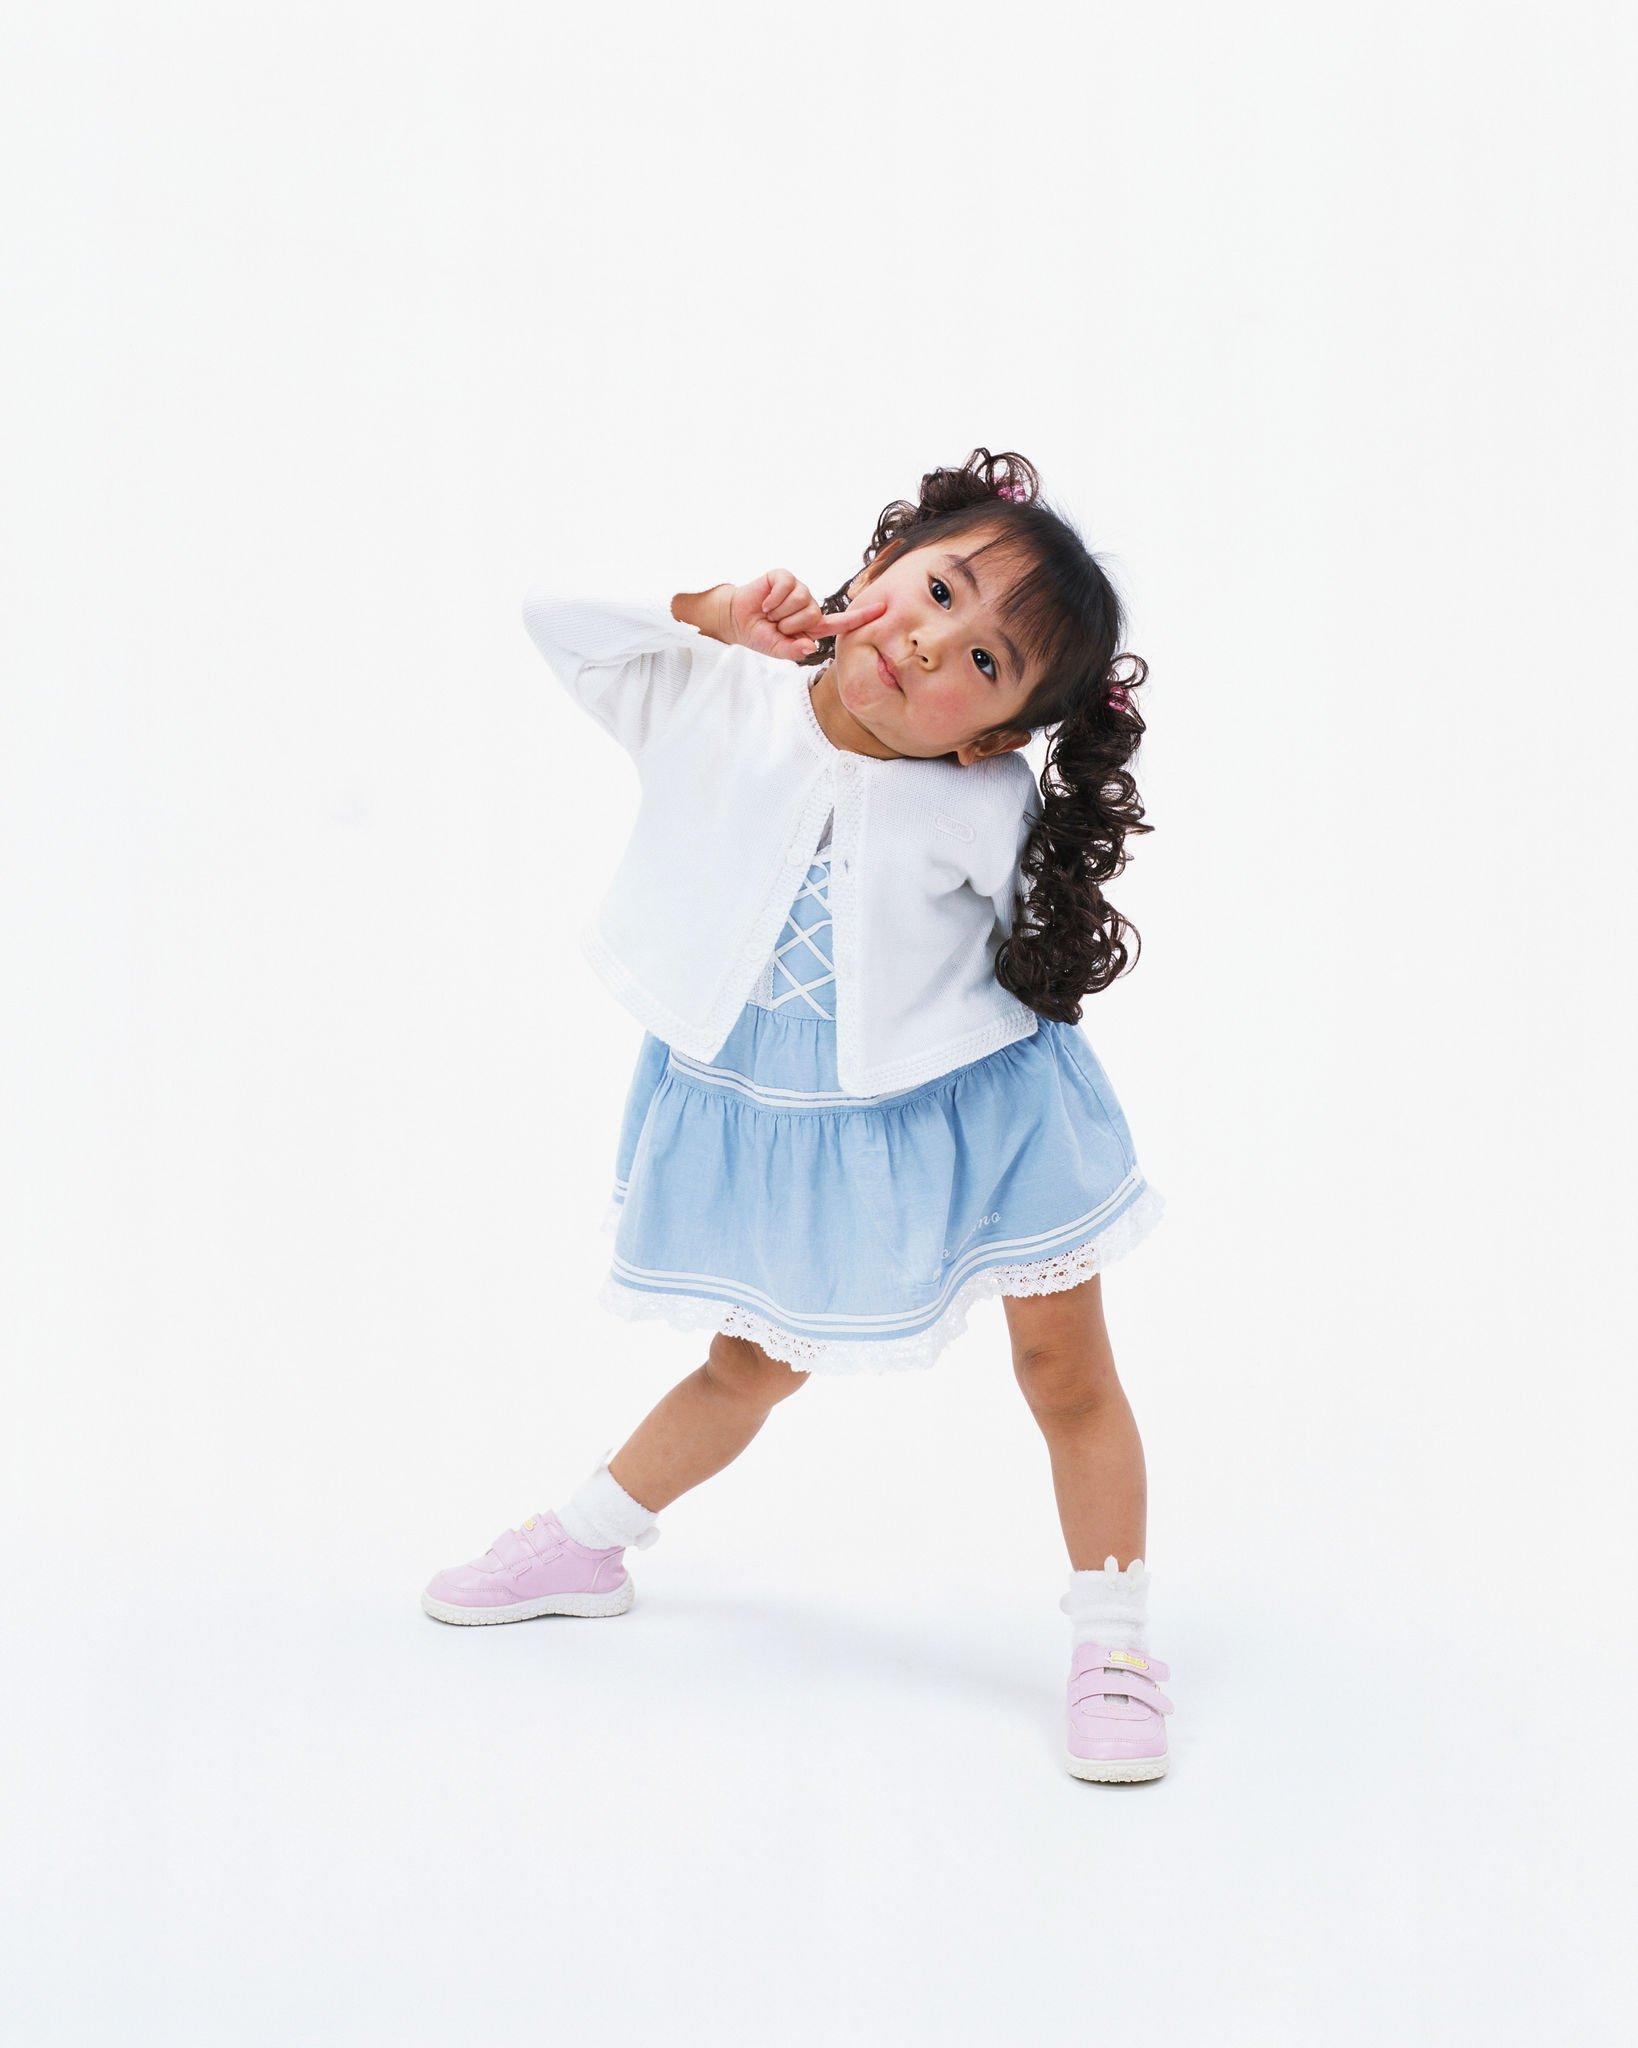Healthy: (822, 471, 1125, 796)
